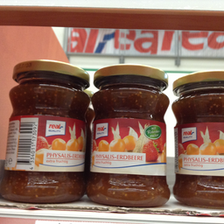jam: (1, 60, 90, 204), (91, 69, 171, 207), (172, 71, 224, 206)
